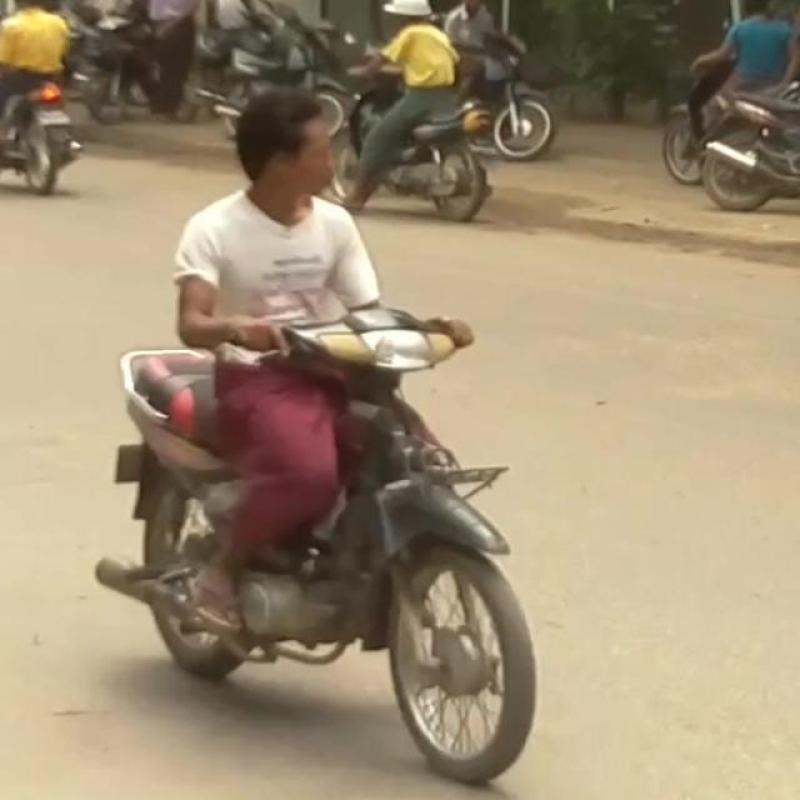nohelmet: (200, 63, 388, 212)
